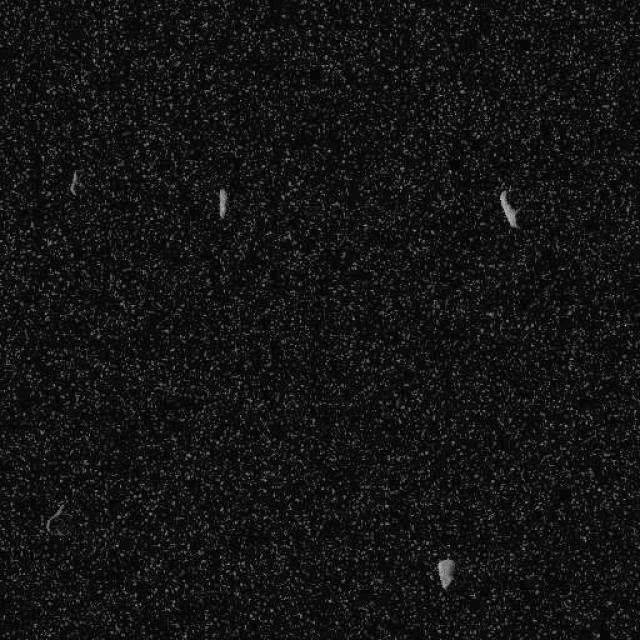D2: (498, 189, 518, 229), (44, 500, 66, 535), (435, 556, 455, 590), (216, 186, 229, 219), (68, 169, 82, 196)
